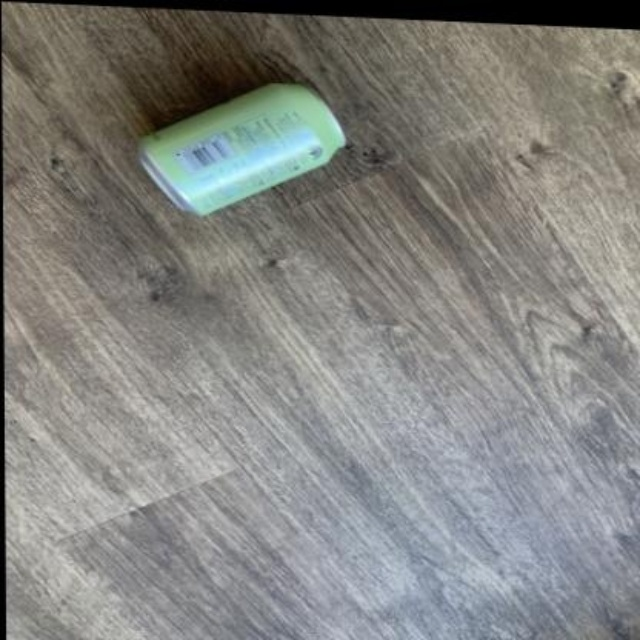trash: (138, 83, 343, 214)
